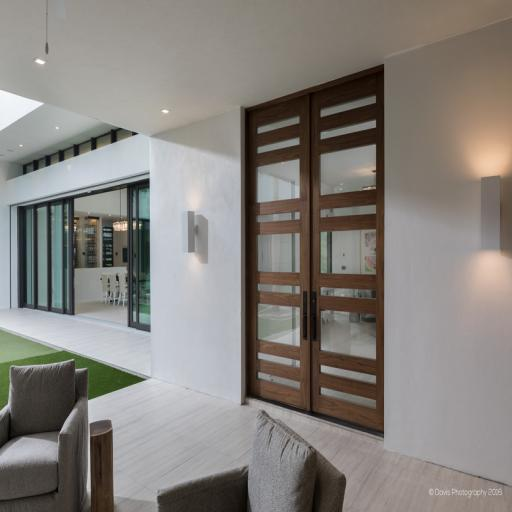Door: (246, 64, 384, 438), (18, 199, 74, 316), (128, 179, 150, 332)
